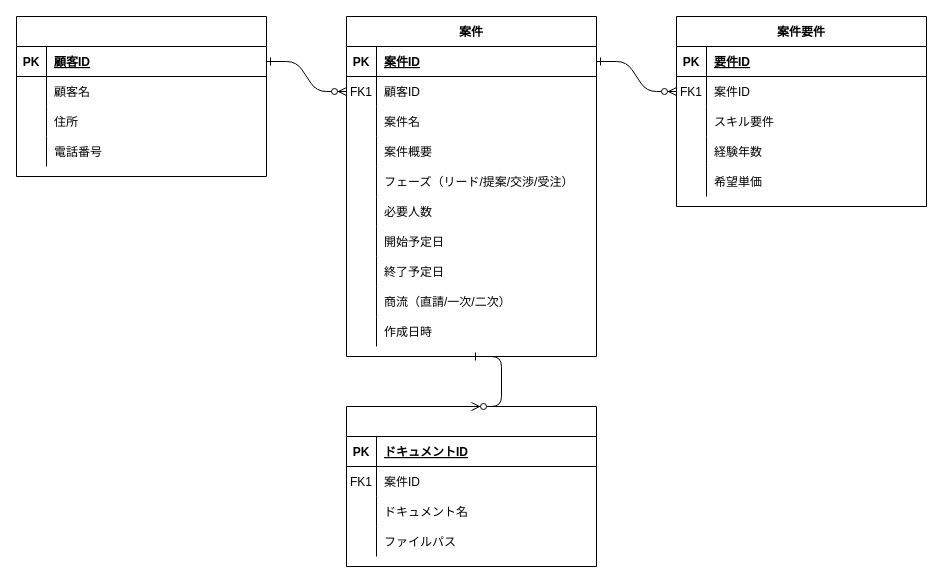
The diagram is 943 pixels wide and 583 high, and some of its shapes have lost their labels. The box of each missing label's shape, as (x1, y1, x2, y2) in pixels:
案件ドキュメント: (346, 406, 596, 566)
顧客: (16, 16, 266, 176)
